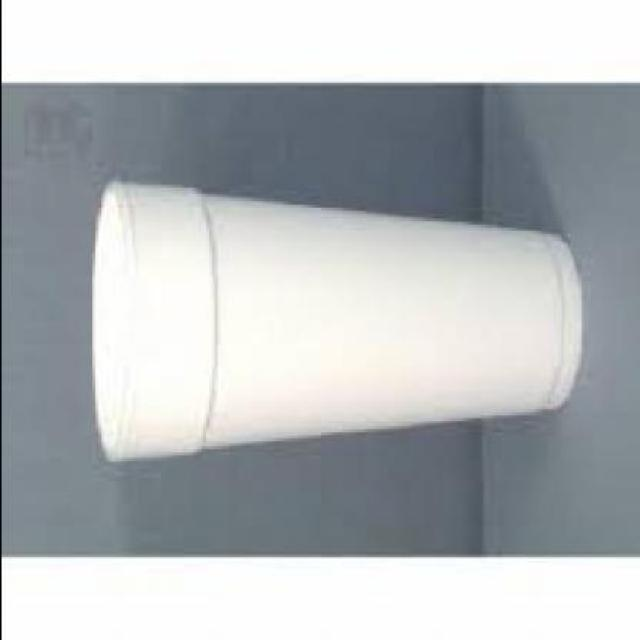PAPER: (88, 182, 580, 467)
